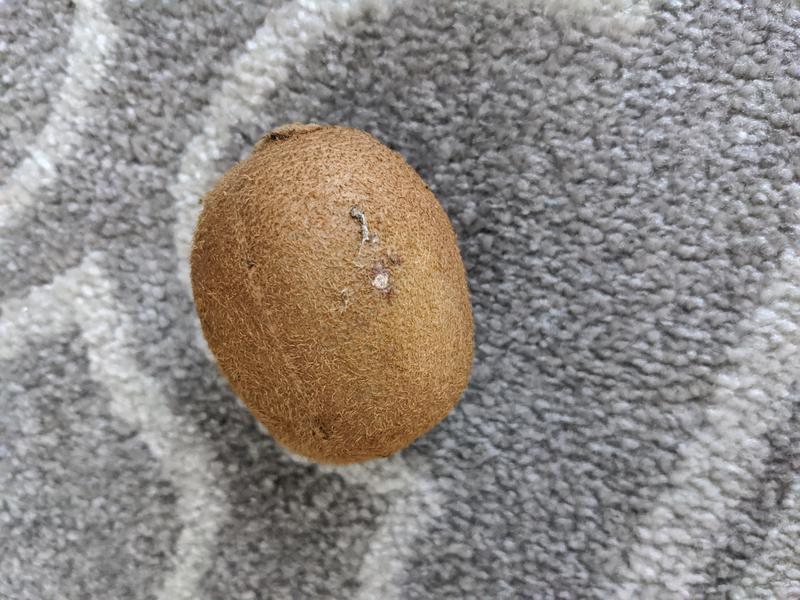kiwi: (191, 123, 474, 467)
